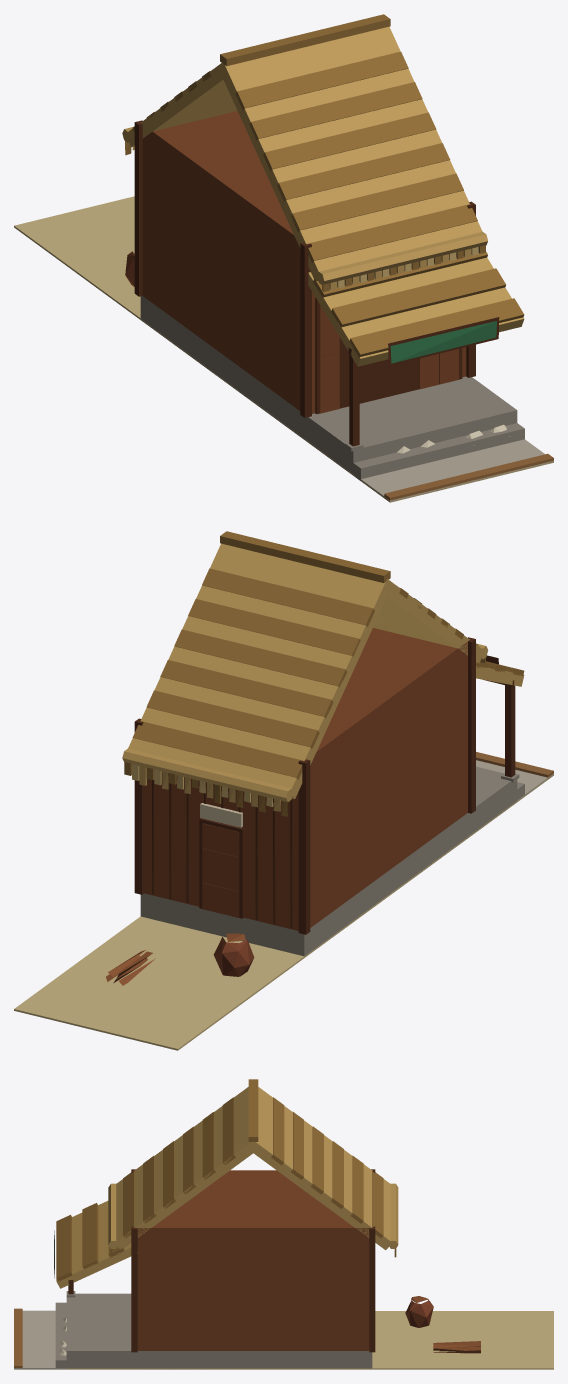
File: bay2_mid2.glb
3 views of the same model, one above another, from view 1: azimuth 30°, elevation 25°; view 2: azimuth 150°, elevation 25°; view 3: azimuth 270°, elevation 25° (orthographic). The views are drawn at different scales.
Parts seen in each view (by area): view 1: body; view 2: body; view 3: body.
Part boxes in pixels (<box>): body: <box>14,14,553,502</box>; body: <box>14,531,553,1050</box>; body: <box>14,1079,553,1369</box>.
Bounding box in the file's own units: 4.18 × 7.56 × 15.9.
